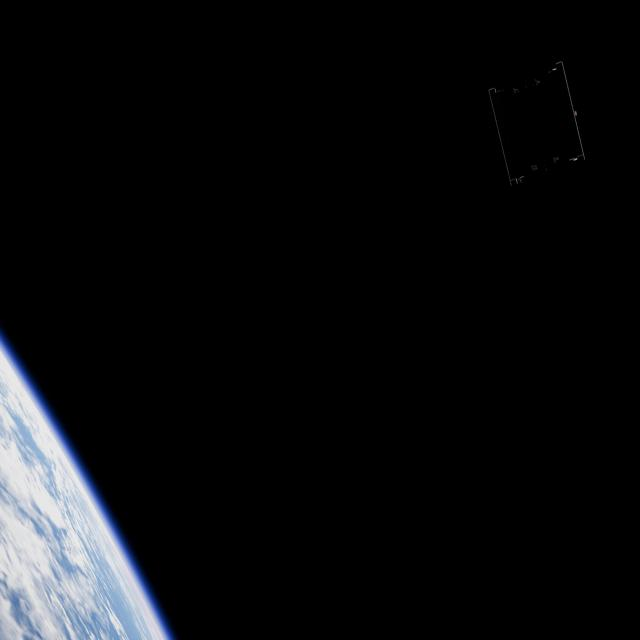medium_debris: (484, 58, 594, 186)
